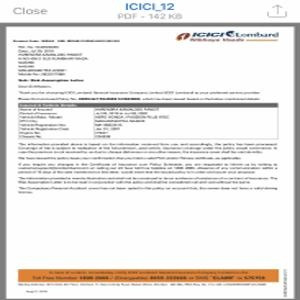image: (174, 27, 283, 45)
table: (18, 102, 279, 138)
text: (8, 36, 266, 101), (18, 142, 281, 195)
